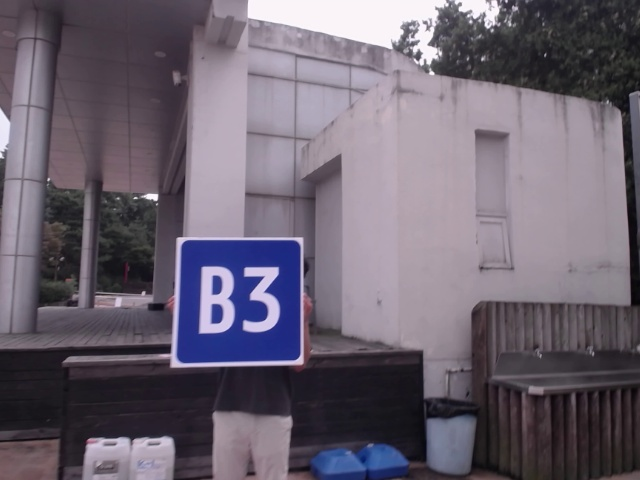delivery_b3: (179, 237, 304, 362)
